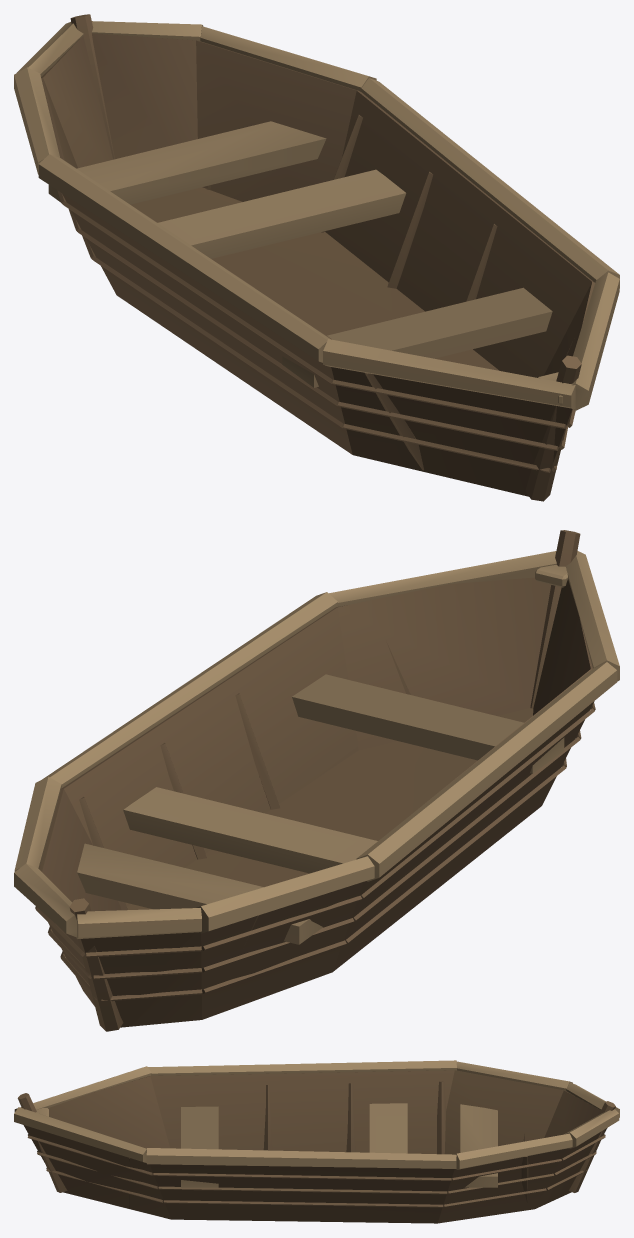
The model's file is boat.glb.
3 renders of one model, top to bottom at view 1: azimuth 30°, elevation 25°; view 2: azimuth 150°, elevation 25°; view 3: azimuth 270°, elevation 25°, orthographic. The views are drawn at different scales.
Parts seen in each view (by area): view 1: boat.001; view 2: boat.001; view 3: boat.001.
Part boxes in pixels (left/top/right/bottom): boat.001: left=14, top=14, right=619, bottom=501; boat.001: left=14, top=530, right=619, bottom=1031; boat.001: left=14, top=1060, right=619, bottom=1223.
Bounding box in the file's own units: 1.56 × 0.7148 × 4.01.
